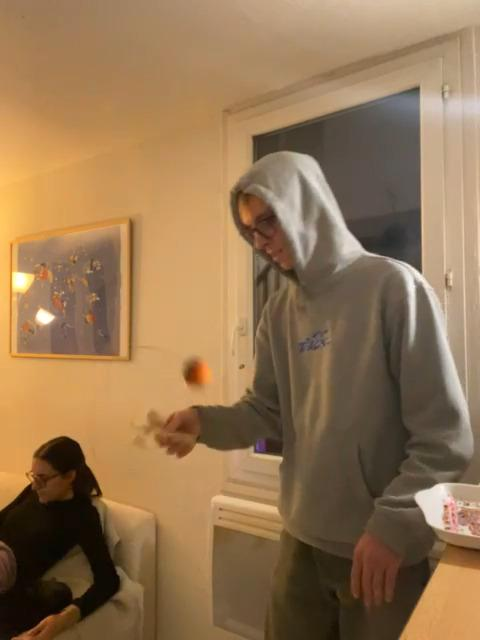kendama_ball: (182, 355, 212, 391)
